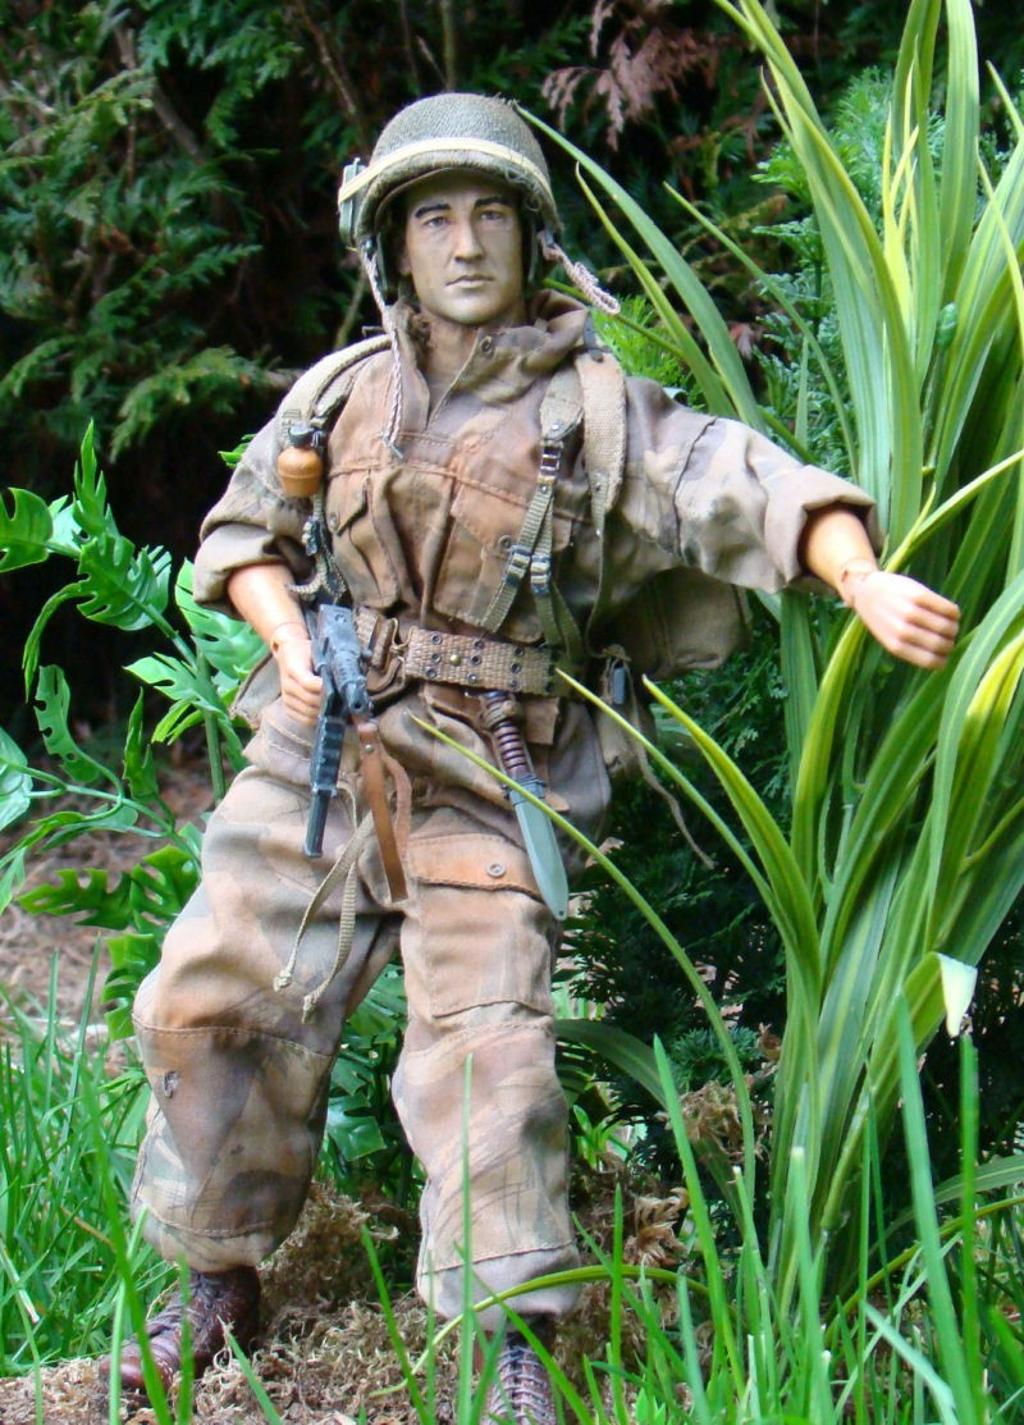face: (407, 157, 524, 318)
